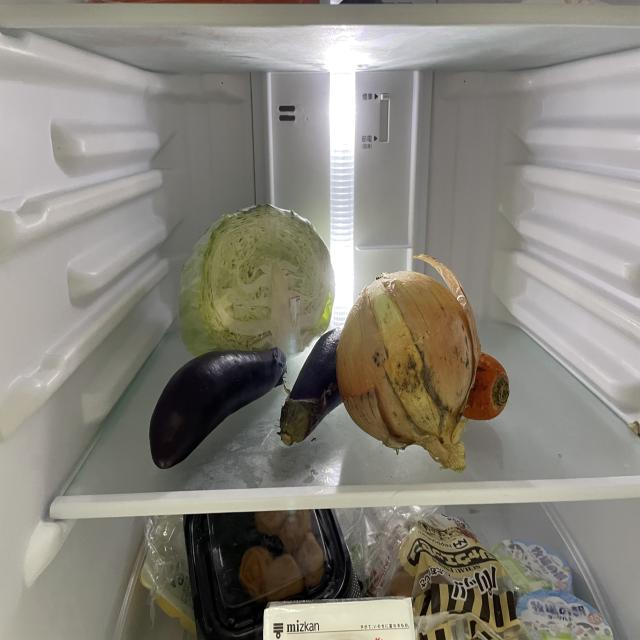cabbage: (181, 203, 330, 358)
carrot: (464, 344, 511, 422)
eggplant: (151, 344, 284, 473), (281, 322, 349, 458)
onion: (336, 270, 487, 473)
